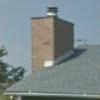Chimney: (42, 3, 76, 60)
